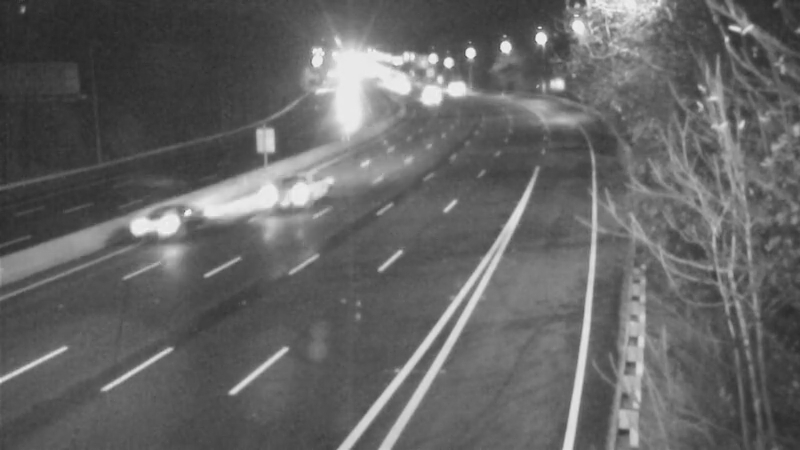vehicle: (259, 155, 339, 235), (117, 186, 197, 266), (428, 63, 478, 113), (408, 73, 458, 123), (315, 77, 365, 127)
